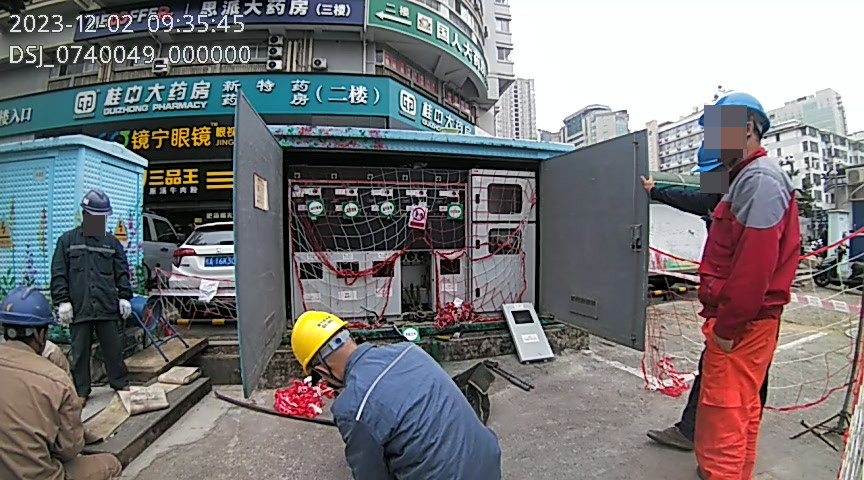downcloth: (75, 323, 130, 395)
halt: (700, 92, 772, 163), (291, 309, 349, 375), (1, 286, 54, 346), (694, 143, 732, 189), (80, 190, 113, 234)
hand: (711, 337, 736, 354), (640, 175, 657, 193)
inear: (737, 111, 760, 155), (307, 361, 336, 386)
person: (687, 93, 802, 478), (289, 307, 505, 480), (647, 130, 751, 447), (53, 190, 139, 408), (1, 285, 84, 480)
upcloth: (693, 153, 798, 322), (1, 341, 86, 480)
upsuit: (334, 338, 499, 480), (55, 229, 127, 322)
wglove: (54, 305, 77, 329), (117, 298, 140, 319)
ydownsuit: (694, 322, 777, 480)
